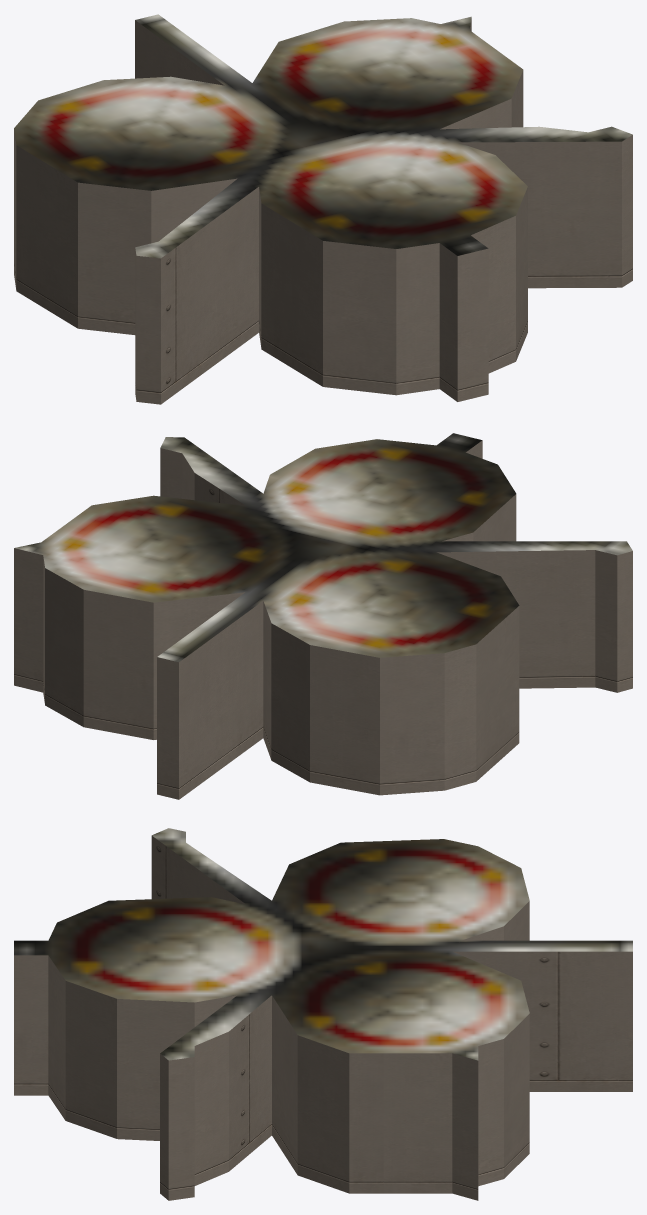
Rendered from fuel_tank_light_65.glb.
The picture shows the model from 3 angles, top to bottom: view 1: azimuth 30°, elevation 25°; view 2: azimuth 150°, elevation 25°; view 3: azimuth 270°, elevation 25°; orthographic projection. The views are drawn at different scales.
Visible parts, largest first — view 1: buildings/saxarba/fuel_tanks/fuel_tank_light_65; view 2: buildings/saxarba/fuel_tanks/fuel_tank_light_65; view 3: buildings/saxarba/fuel_tanks/fuel_tank_light_65.
Boxes of the visible parts, box(x1,y1,x2,y2) form: buildings/saxarba/fuel_tanks/fuel_tank_light_65: box(14, 14, 632, 404); buildings/saxarba/fuel_tanks/fuel_tank_light_65: box(14, 433, 632, 799); buildings/saxarba/fuel_tanks/fuel_tank_light_65: box(14, 828, 632, 1200).
Size of the model in its own units: 64 by 18 by 72.
